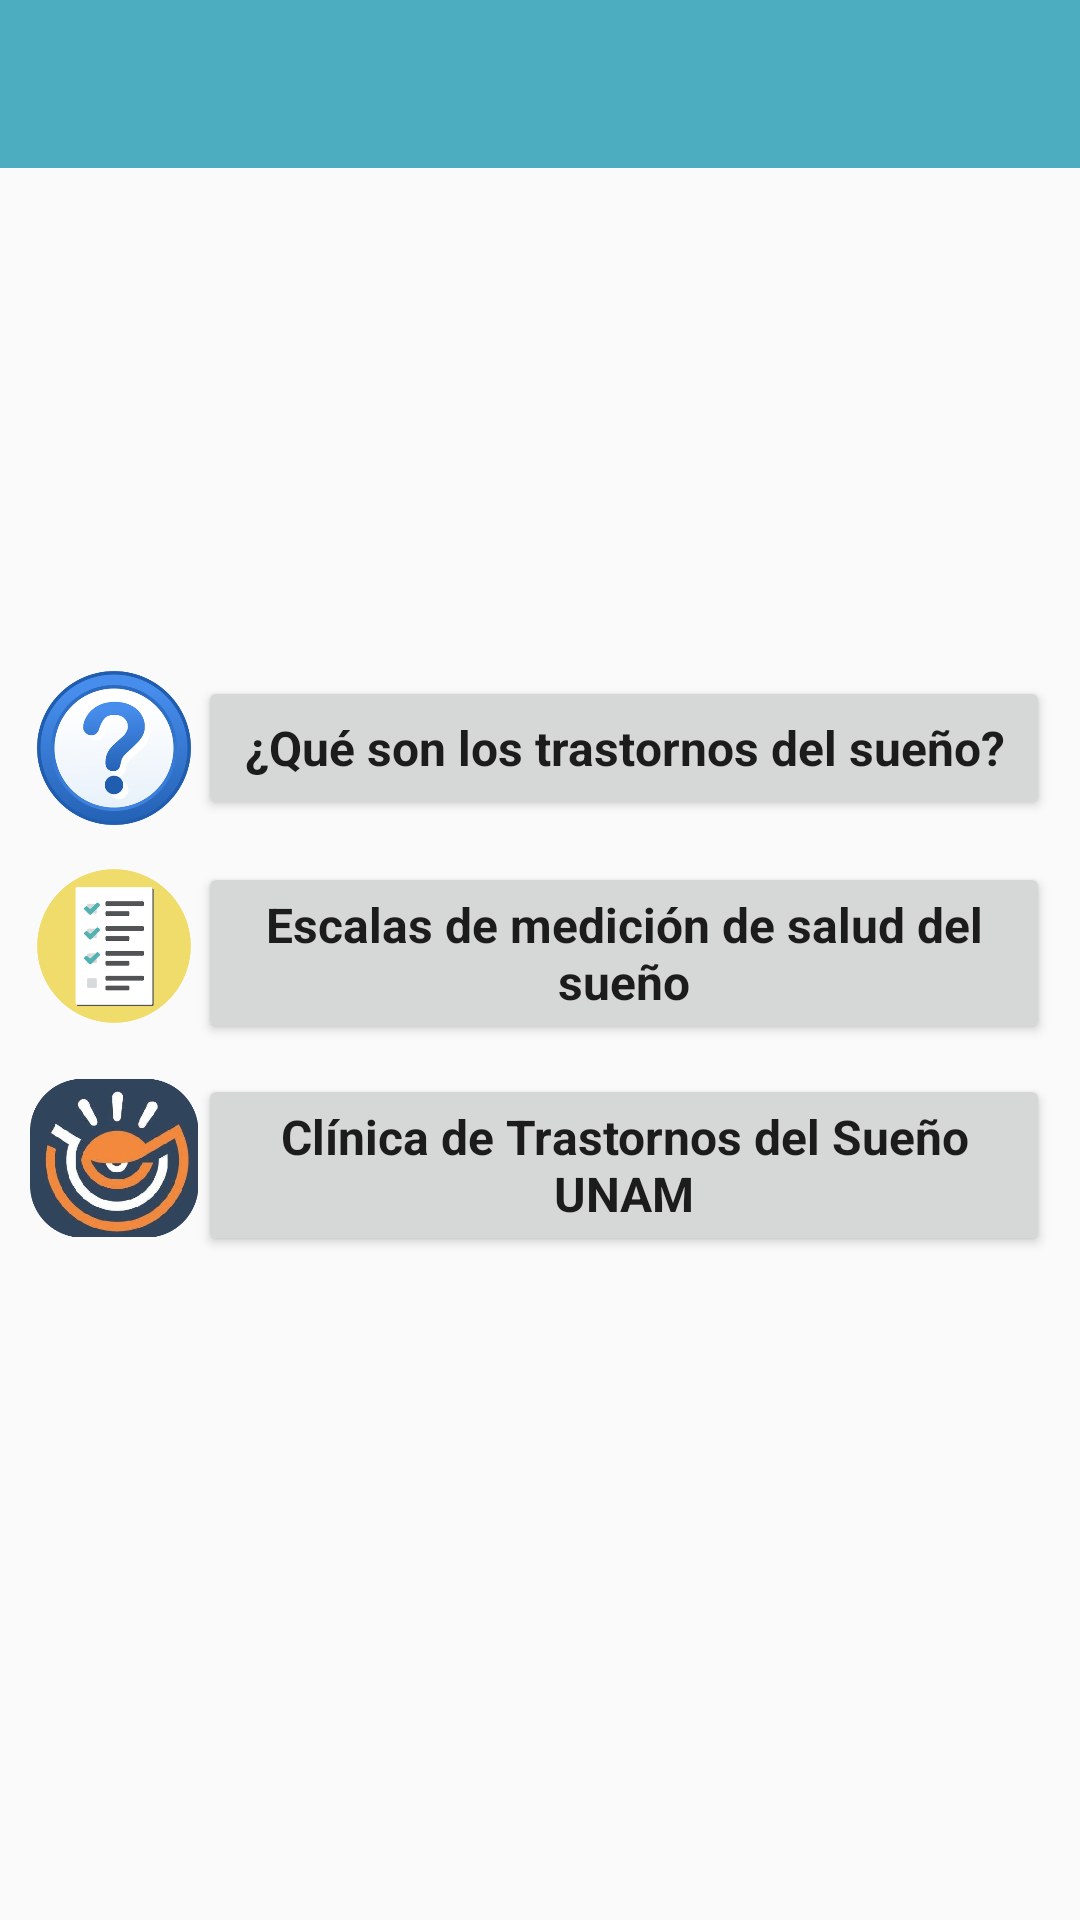

Named icons in this screenshot (1080px x 1920px) and their bounding boxes, (x1, y1, x2, y2):
cuestionarios: (37, 869, 191, 1023)
informacion: (37, 671, 191, 825)
